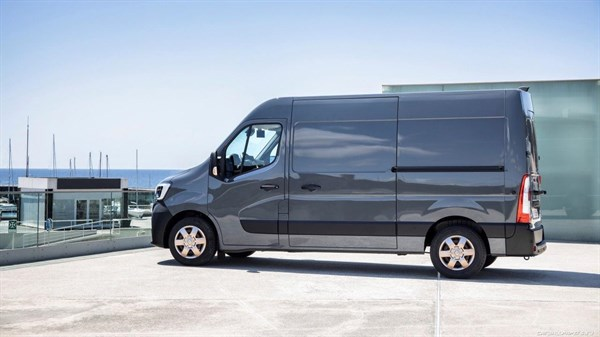van: (151, 91, 548, 279)
